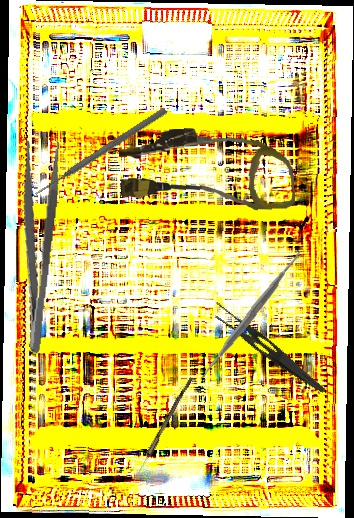Cannula: (117, 121, 296, 220)
Dressing Forceps: (6, 137, 64, 355), (205, 299, 335, 395)
Pusher: (32, 105, 169, 199)
Spatula Surgical: (185, 250, 317, 379)
Surgical Spoon: (131, 375, 193, 485)
